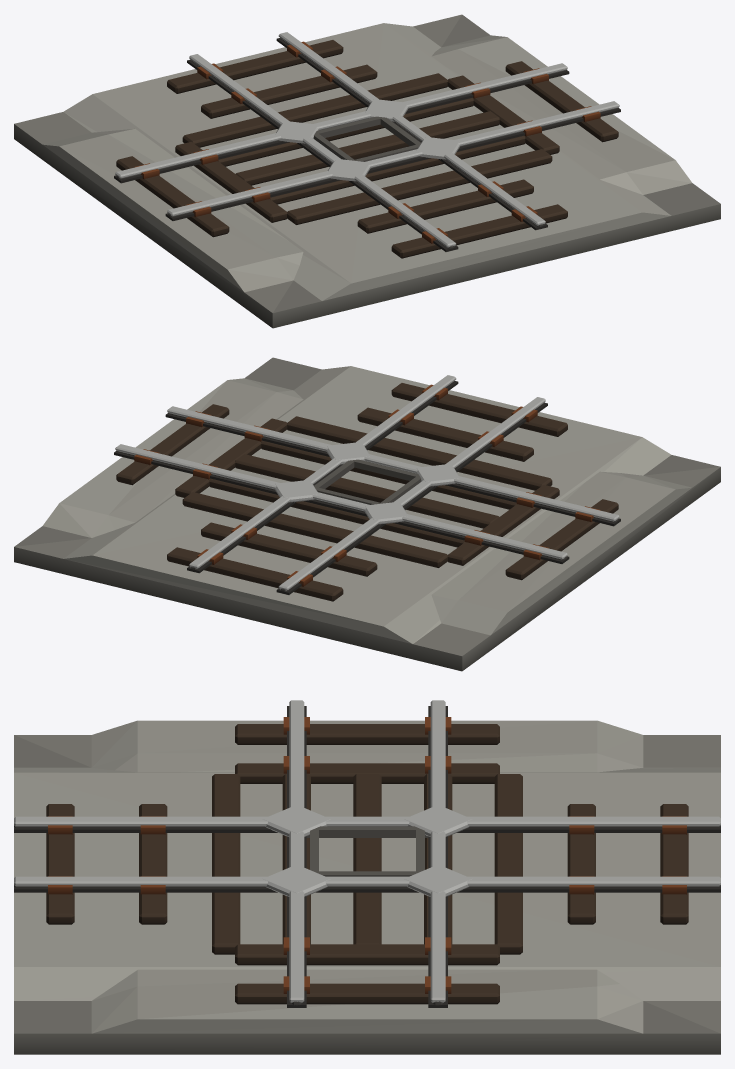
File: track-diamond-crossing-tile.glb
3 views of the same model, one above another, from view 1: azimuth 30°, elevation 25°; view 2: azimuth 150°, elevation 25°; view 3: azimuth 270°, elevation 25° (orthographic). The views are drawn at different scales.
Visible parts, largest first — view 1: track_diamond_crossing_tile; view 2: track_diamond_crossing_tile; view 3: track_diamond_crossing_tile.
Part boxes in pixels (x1,y1,x2,y2): track_diamond_crossing_tile: (14, 14, 720, 328); track_diamond_crossing_tile: (14, 357, 720, 671); track_diamond_crossing_tile: (14, 700, 720, 1054).
Size of the model in its own units: 4 by 0.3511 by 4.
